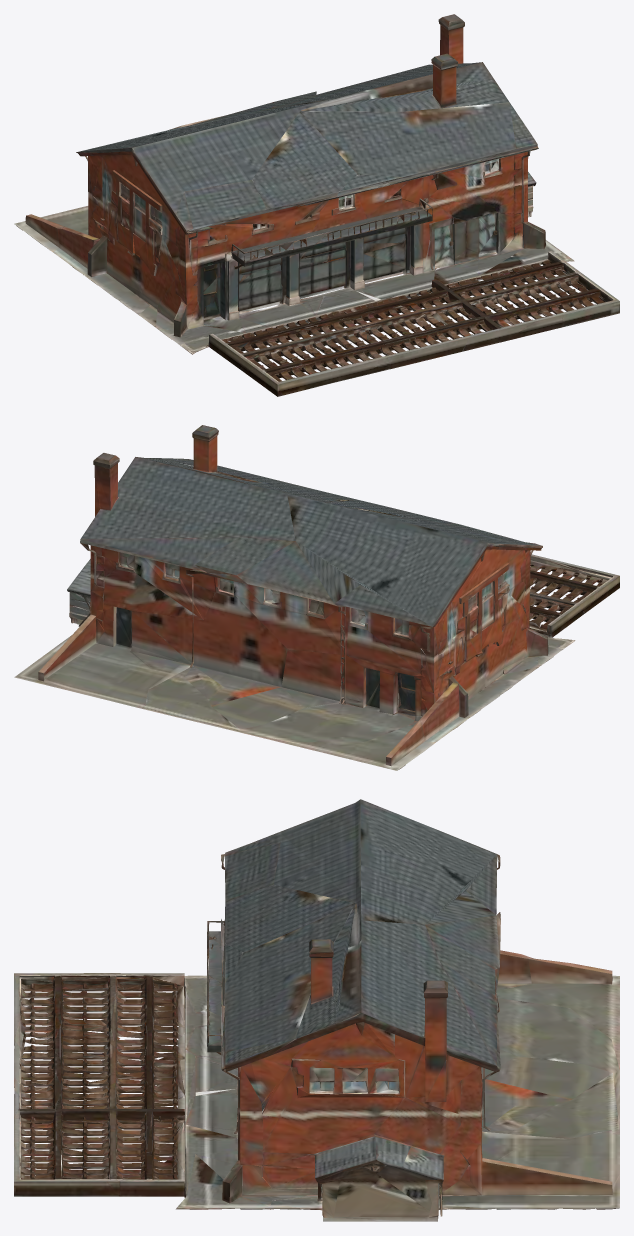
The model's file is station_wh_2.glb.
3 renders of one model, top to bottom at view 1: azimuth 30°, elevation 25°; view 2: azimuth 150°, elevation 25°; view 3: azimuth 270°, elevation 25°, orthographic. The views are drawn at different scales.
Visible parts, largest first — view 1: normalize; view 2: normalize; view 3: normalize.
Part boxes in pixels (x1,y1,x2,y2): normalize: [14, 14, 619, 396]; normalize: [14, 425, 619, 770]; normalize: [14, 799, 619, 1221].
Size of the model in its own units: 0.955 by 0.4108 by 1.
Materials: 1 (1 with a texture image).
